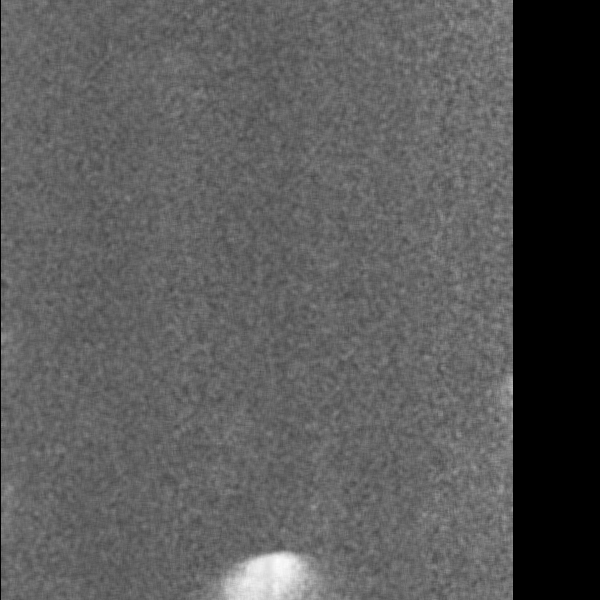spark: (210, 544, 340, 600)
